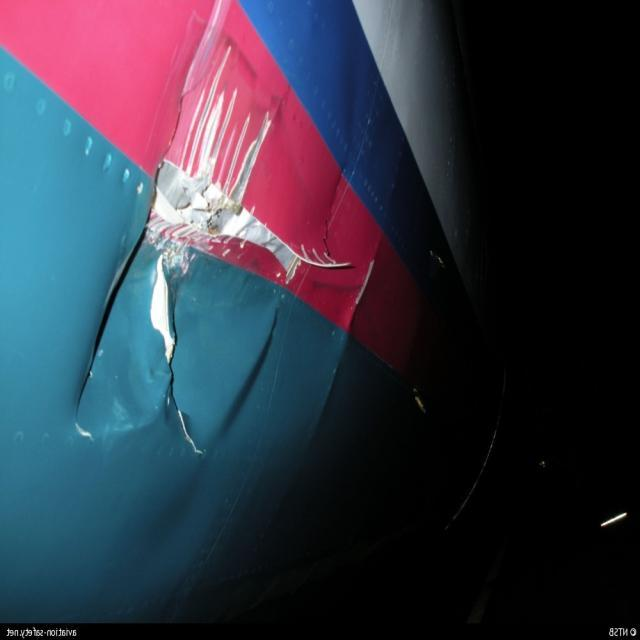crack: (154, 253, 204, 458)
dent: (201, 310, 283, 456), (81, 296, 155, 429)
